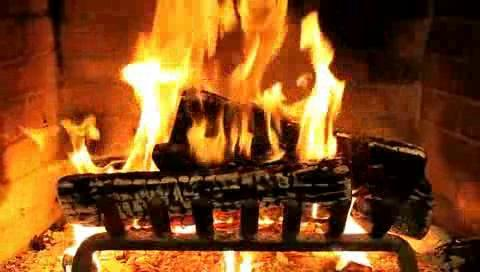fire: (122, 8, 353, 171)
